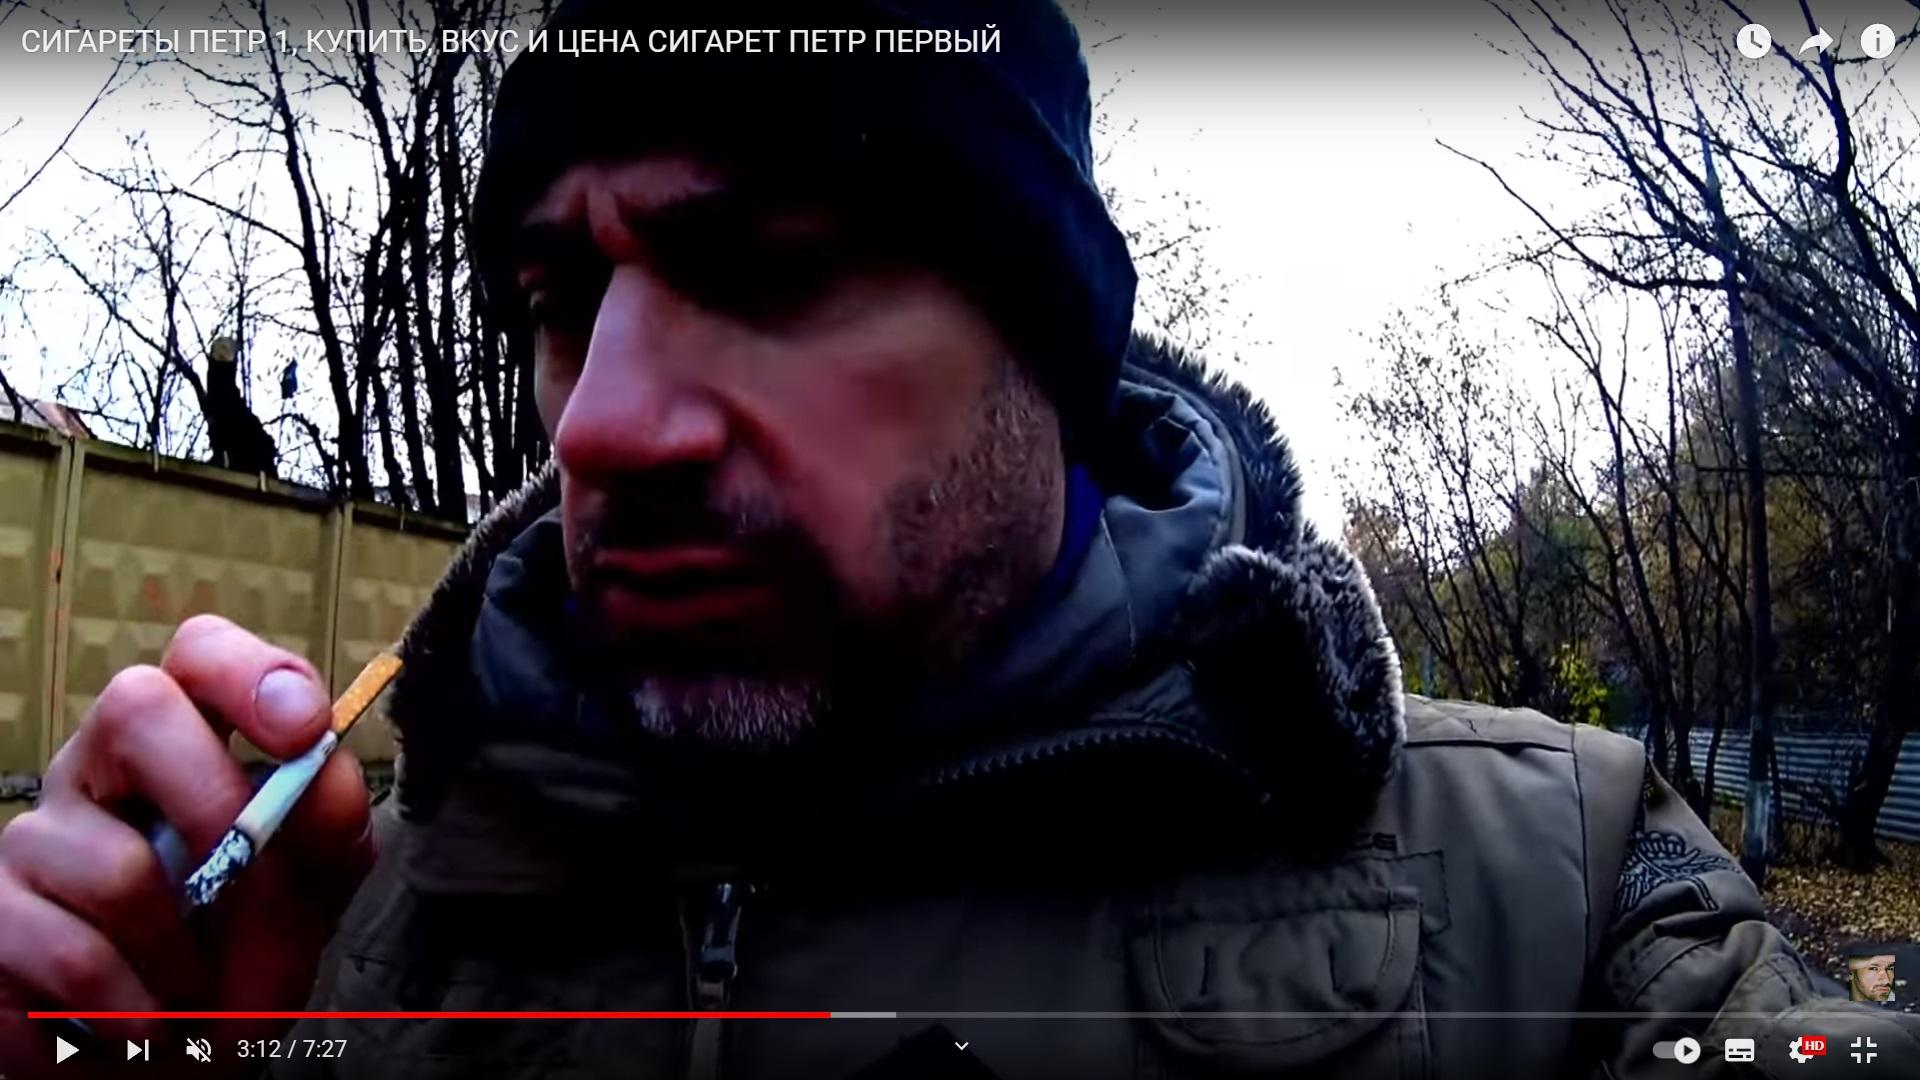cigarette: (183, 646, 406, 909)
